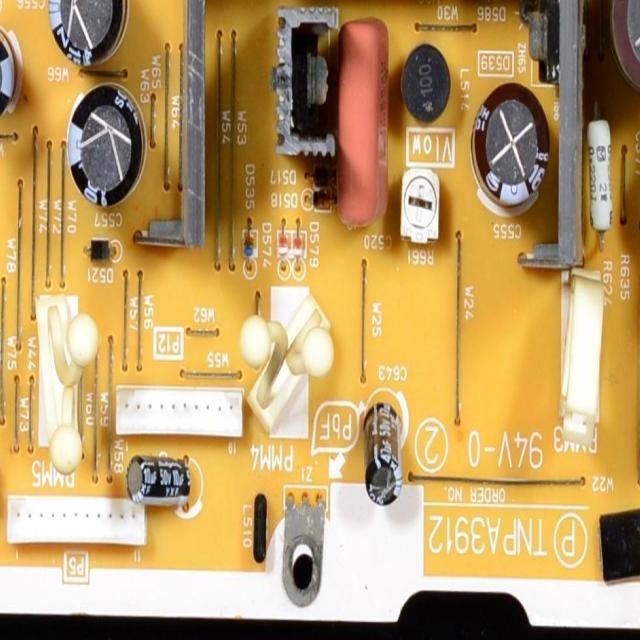capacitor: (468, 82, 550, 212), (64, 85, 147, 208), (343, 20, 385, 229), (41, 0, 124, 77), (612, 0, 640, 73), (0, 34, 10, 126)
resistor: (402, 168, 439, 256), (589, 113, 611, 241)
